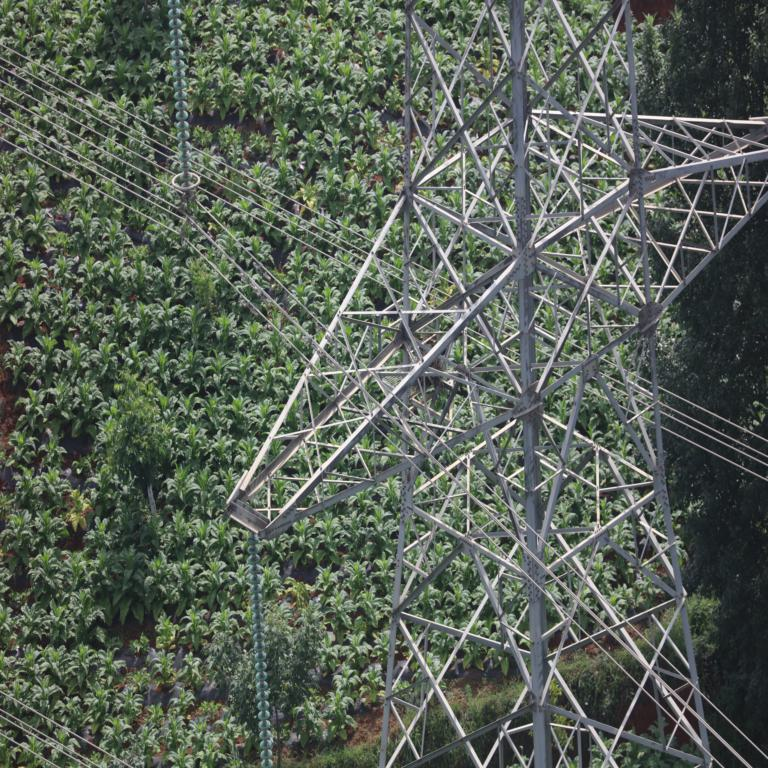nest: (414, 353, 439, 389)
